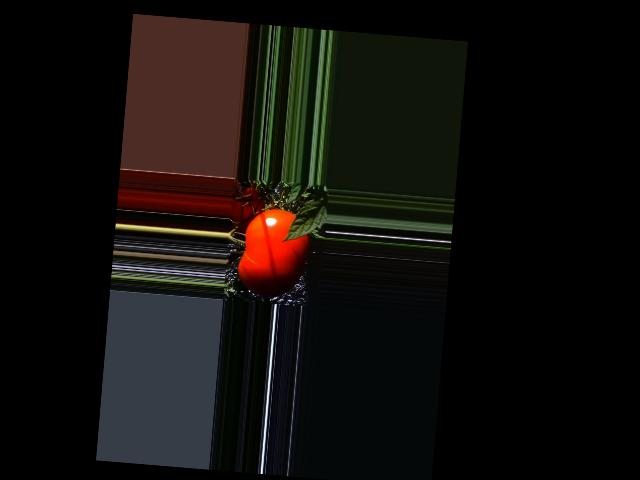tomato: (236, 206, 312, 299)
